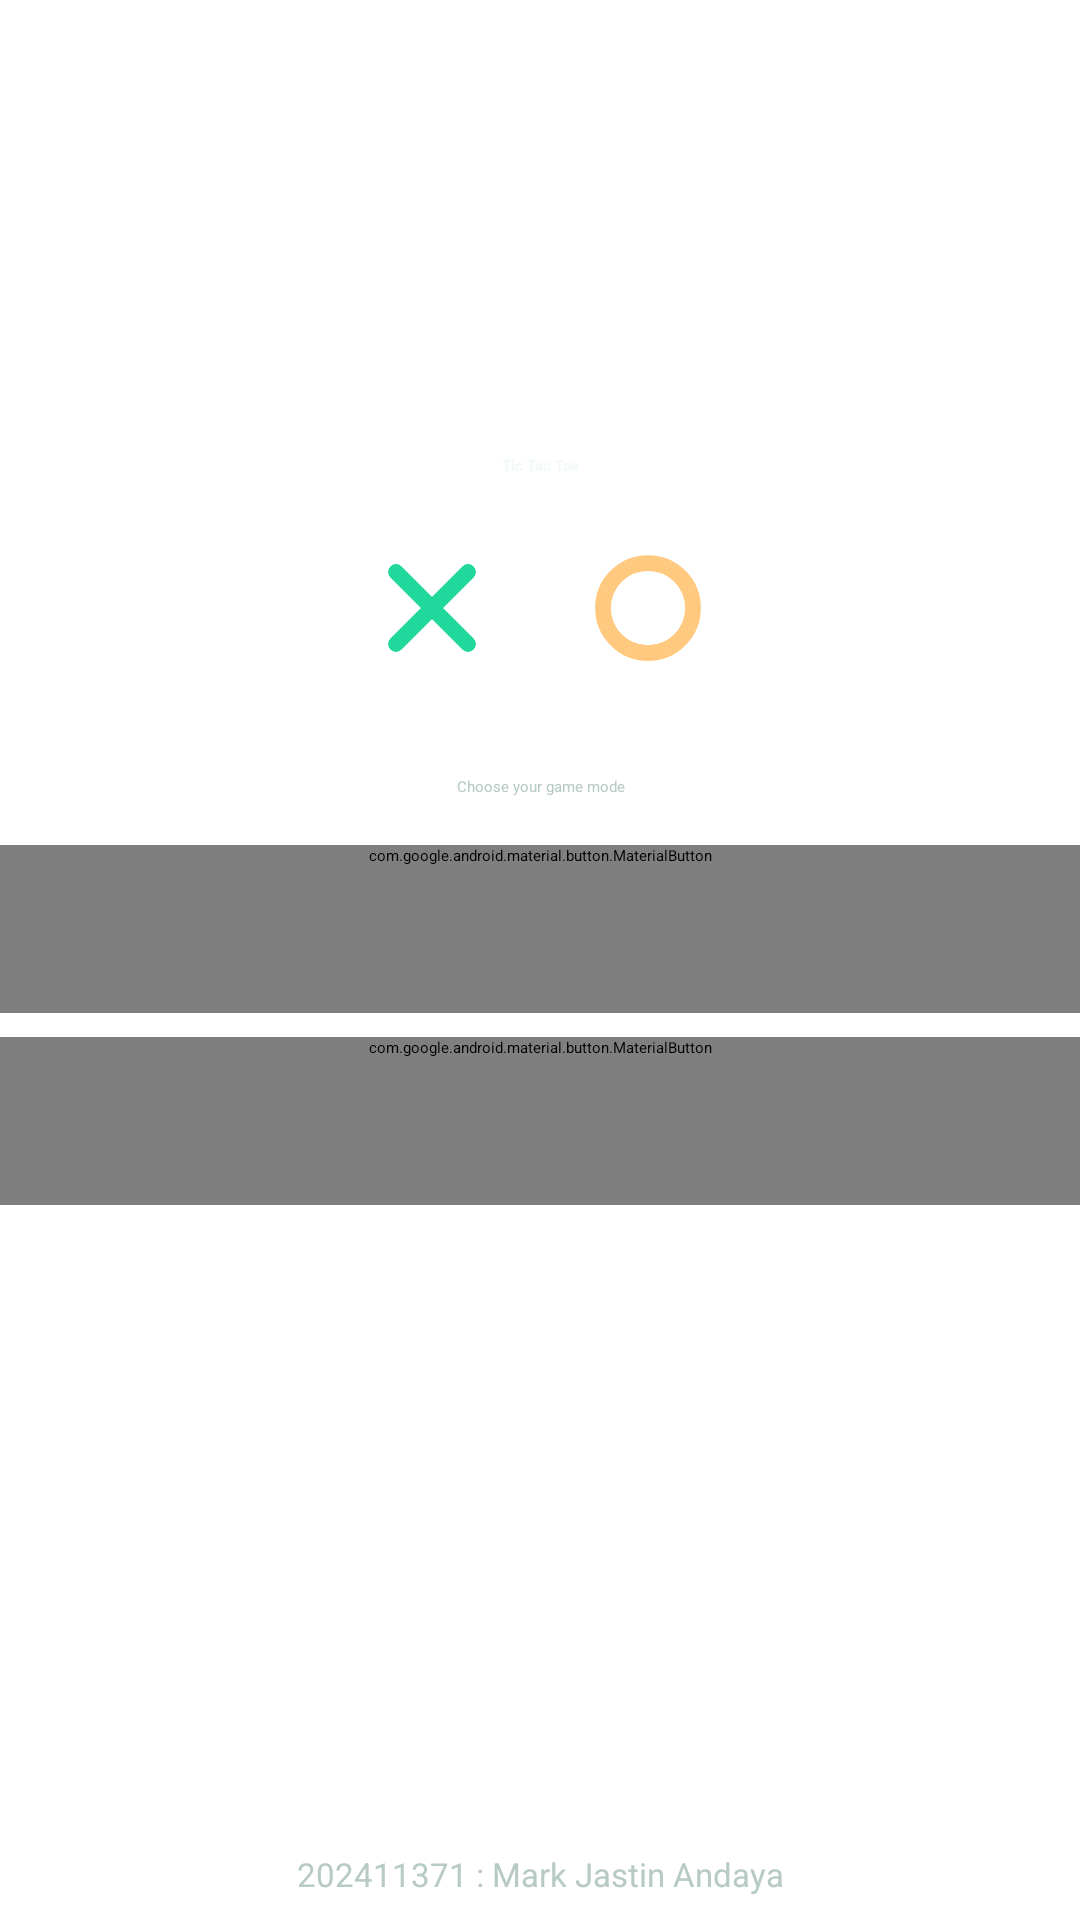

Locate icon controls on the screen. Image size 1080 x 1920, boxes as bbox=(x1, y1, x2, y2).
symbol: bbox=(595, 555, 701, 661), bbox=(388, 564, 476, 652)
